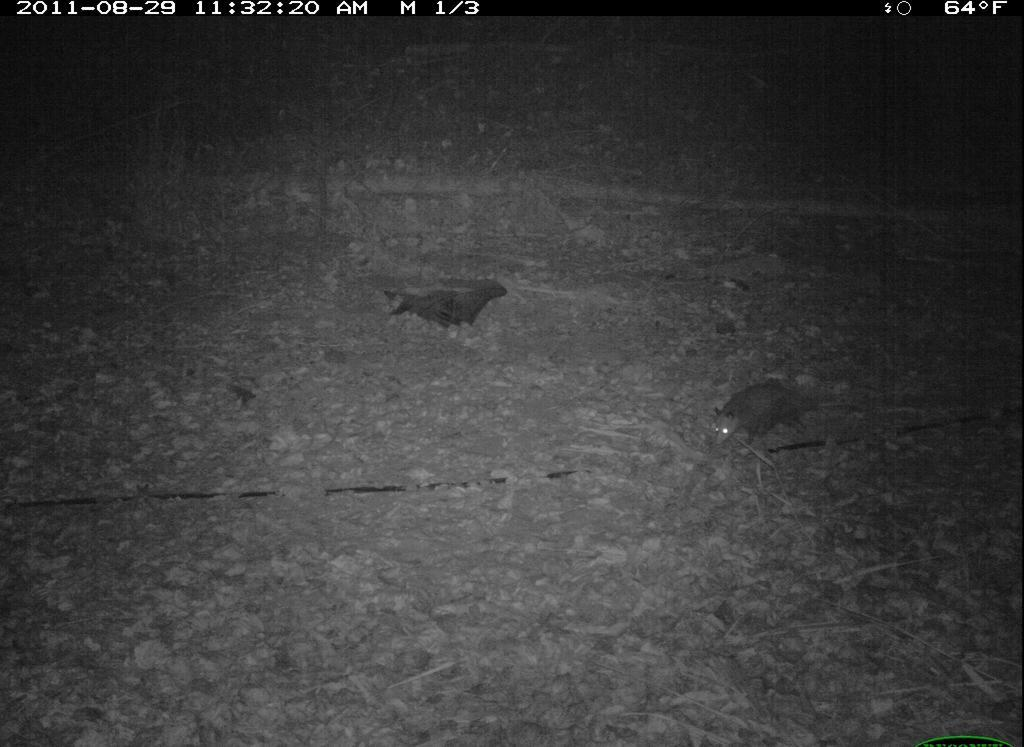opossum: (683, 364, 818, 479)
